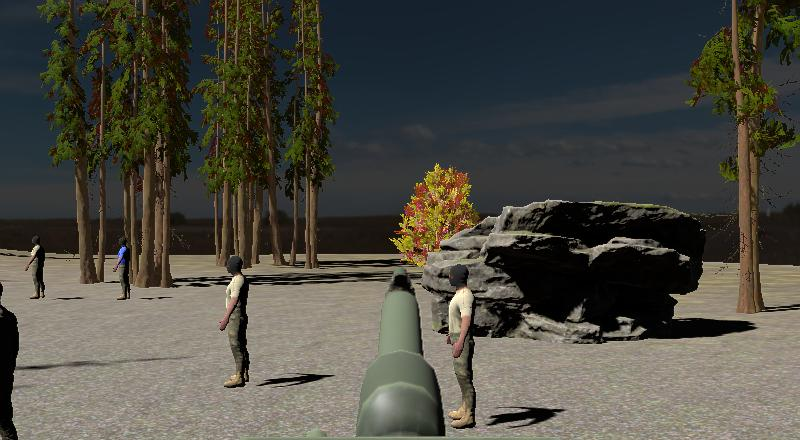Human: (445, 259, 483, 431), (445, 258, 483, 430), (216, 247, 255, 390), (24, 232, 47, 301), (113, 235, 132, 302)
